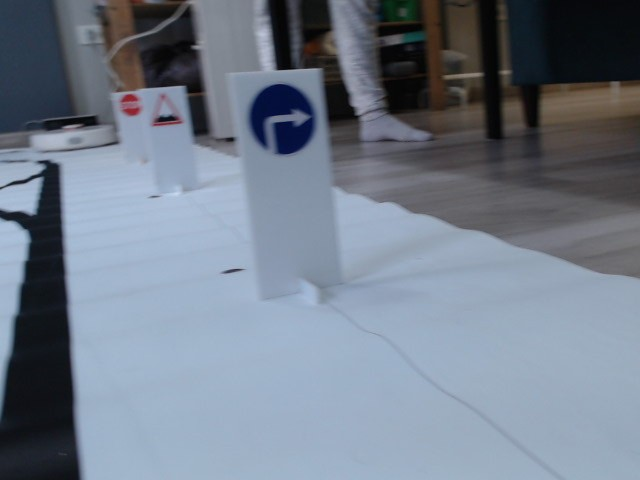Nerov: (147, 92, 183, 126)
Right: (246, 82, 315, 159)
